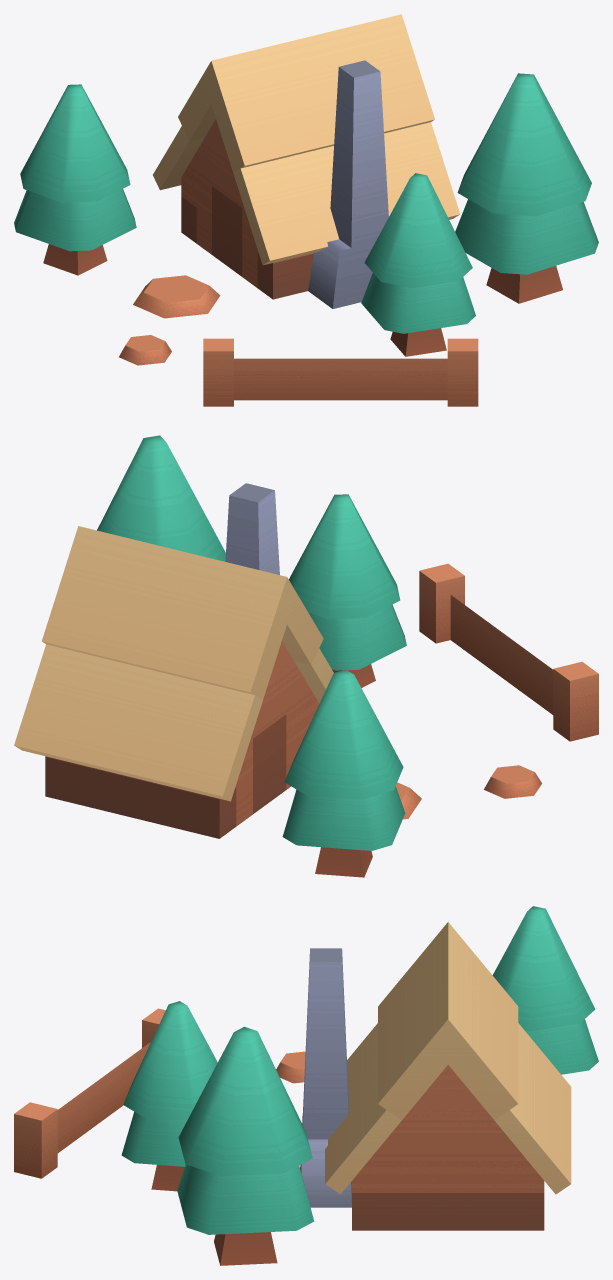
Rendered from hx_building-house.glb.
3 views of the same model, one above another, from view 1: azimuth 30°, elevation 25°; view 2: azimuth 150°, elevation 25°; view 3: azimuth 270°, elevation 25° (orthographic). The views are drawn at different scales.
Bounding box in the file's own units: 0.8176 × 0.4 × 0.9129.
1 material, 1 textured.
